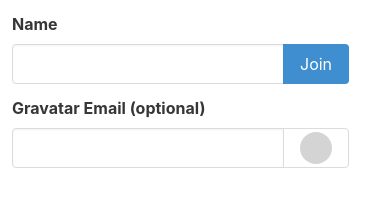
Add Player › shows error if no name entered
Click the button "Join".
click(316, 64)  # box [283,44,349,84]
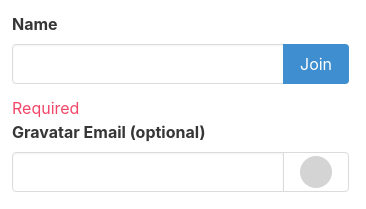
Check: the text with test id "join-error" reads "Required", box [12,98,79,118]
